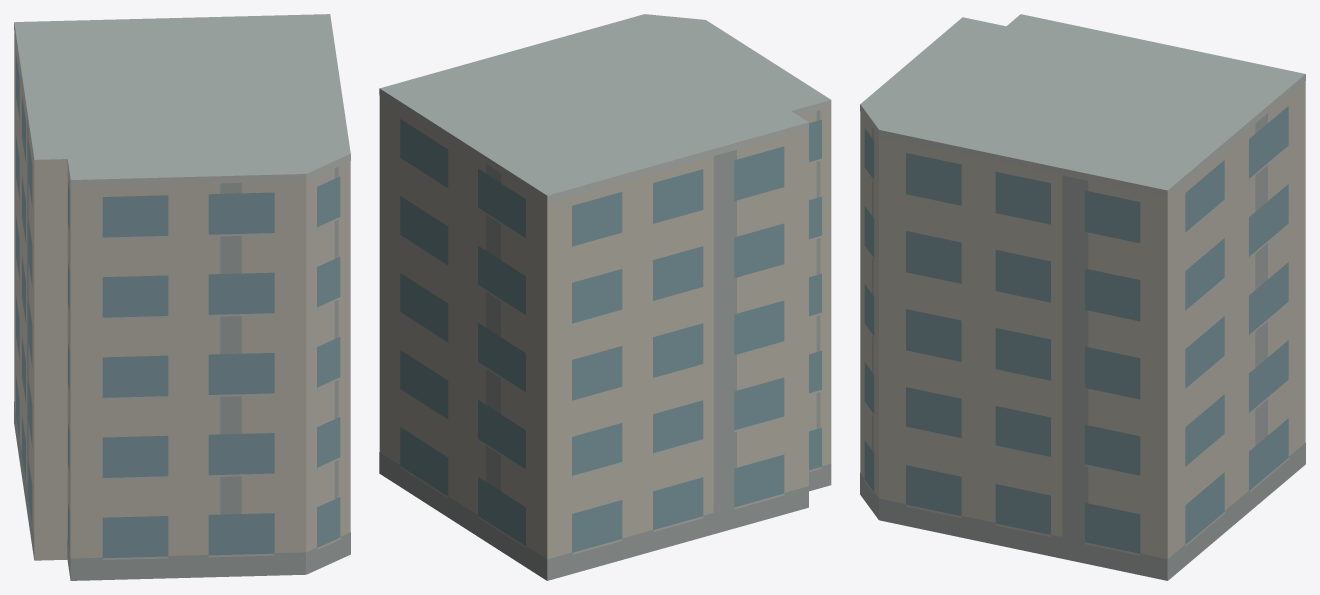
The model's file is survey-upis-32892477.glb.
3 renders of one model, left to right at view 1: azimuth 30°, elevation 25°; view 2: azimuth 150°, elevation 25°; view 3: azimuth 270°, elevation 25°, orthographic. The views are drawn at different scales.
Visible parts, largest first — view 1: survey-upis-32892477.tmp; view 2: survey-upis-32892477.tmp; view 3: survey-upis-32892477.tmp.
Boxes of the visible parts, bbox=[...] form: survey-upis-32892477.tmp: bbox=[14, 14, 350, 580]; survey-upis-32892477.tmp: bbox=[379, 14, 831, 580]; survey-upis-32892477.tmp: bbox=[860, 14, 1305, 580].
Size of the model in its own units: 12.89 by 13.29 by 13.75.
